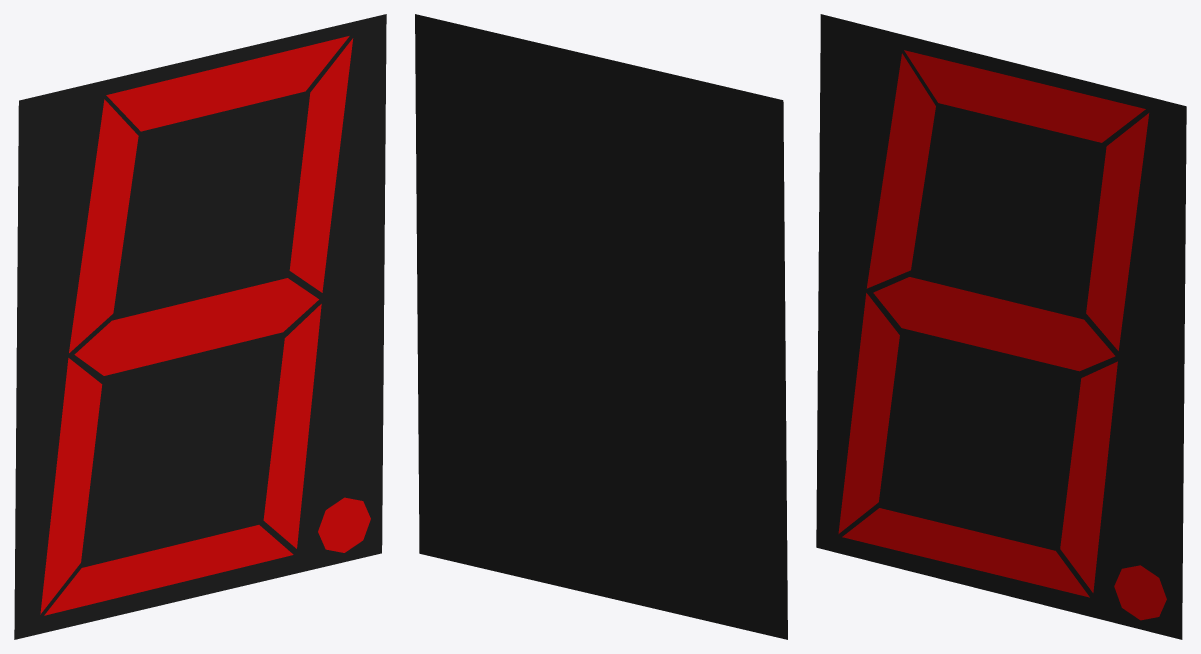
The model's file is BasicSevenSegmentDisplay.FBX.
3 renders of one model, left to right at view 1: azimuth 30°, elevation 25°; view 2: azimuth 150°, elevation 25°; view 3: azimuth 330°, elevation 25°, orthographic.
Parts seen in each view (by area): view 1: Face, D6, D0, D5, D3, D4, D1, D2, D7; view 2: Face; view 3: Face, D6, D0, D5, D3, D4, D1, D2, D7.
Part boxes in pixels (<box>): Face: <box>14,14,386,639</box>; D6: <box>74,278,318,375</box>; D0: <box>106,36,349,131</box>; D5: <box>69,99,138,352</box>; D3: <box>44,525,293,615</box>; D4: <box>40,358,102,614</box>; D1: <box>289,38,353,292</box>; D2: <box>263,304,321,548</box>; D7: <box>318,497,370,552</box>; Face: <box>415,14,787,639</box>; Face: <box>816,14,1186,639</box>; D6: <box>873,277,1115,371</box>; D0: <box>904,50,1145,142</box>; D5: <box>866,53,935,288</box>; D3: <box>842,508,1089,597</box>; D4: <box>838,293,899,533</box>; D1: <box>1086,113,1149,350</box>; D2: <box>1060,361,1117,592</box>; D7: <box>1114,565,1166,620</box>.
Bounding box in the file's own units: 63 × 87.54 × 0.6308.
